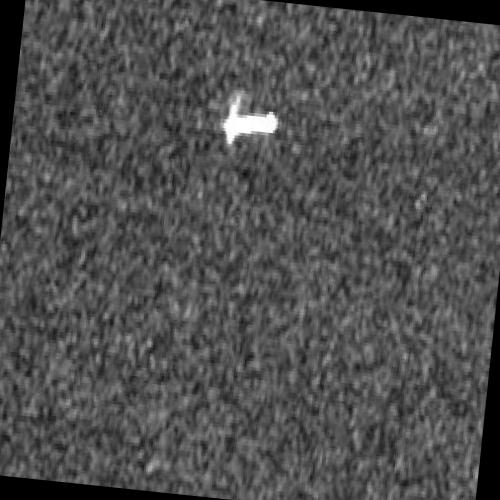ship: (222, 99, 279, 145)
